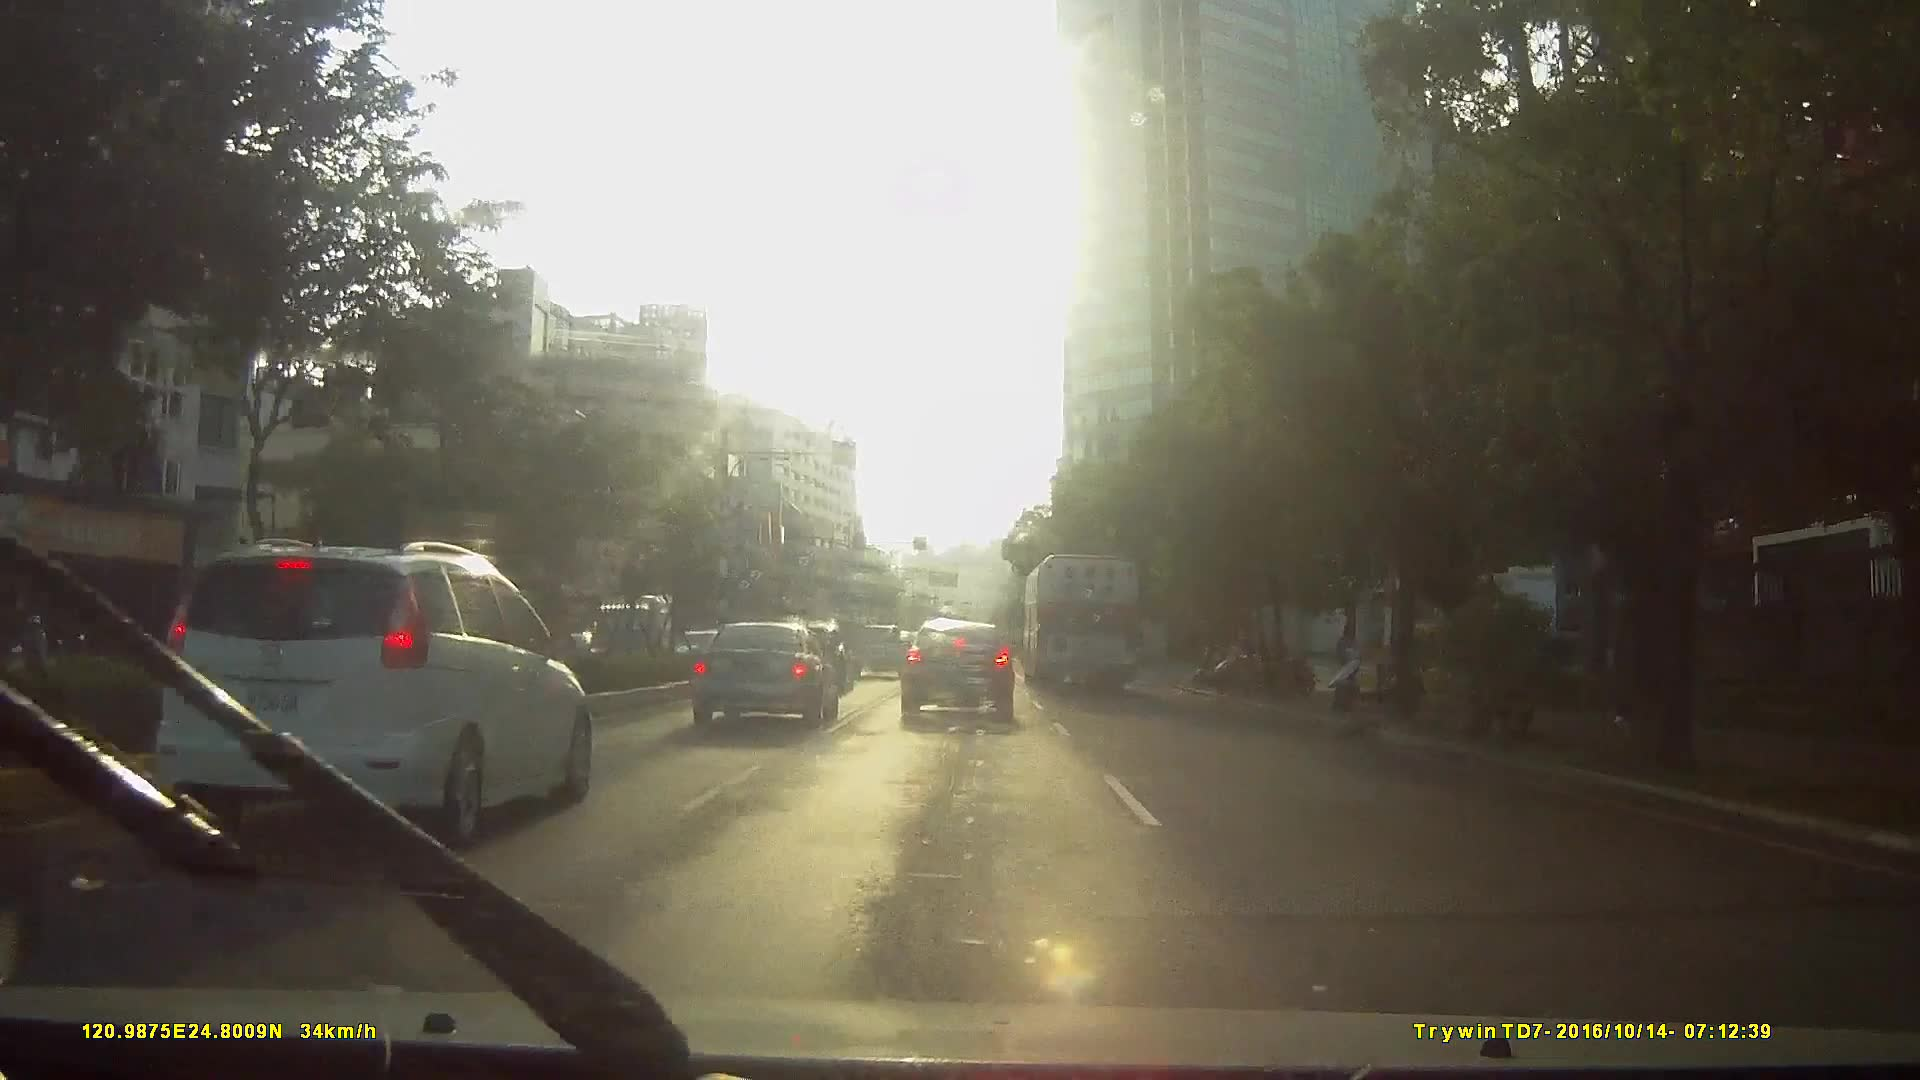vehicle: (135, 531, 601, 858), (251, 556, 684, 868), (1019, 542, 1142, 692), (680, 617, 837, 731), (897, 615, 1017, 727), (575, 589, 665, 669), (847, 620, 906, 676)
